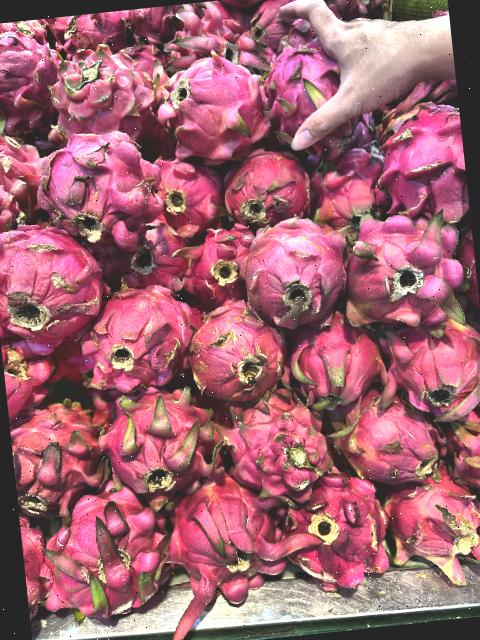buah-naga-belum-matang: (338, 202, 466, 336), (374, 307, 480, 429), (44, 44, 160, 146), (9, 398, 107, 509)
buah-naga-matang: (160, 472, 316, 624), (32, 490, 176, 622), (101, 381, 220, 507), (0, 214, 109, 351), (216, 387, 337, 508), (75, 273, 200, 389), (238, 210, 354, 332), (280, 310, 400, 424), (274, 478, 398, 586), (373, 99, 471, 233), (38, 135, 157, 241), (373, 465, 480, 582), (152, 59, 270, 159), (188, 296, 285, 414), (332, 386, 444, 488), (142, 152, 232, 244), (214, 139, 312, 223), (168, 223, 262, 306), (0, 32, 67, 135), (0, 127, 53, 238)
